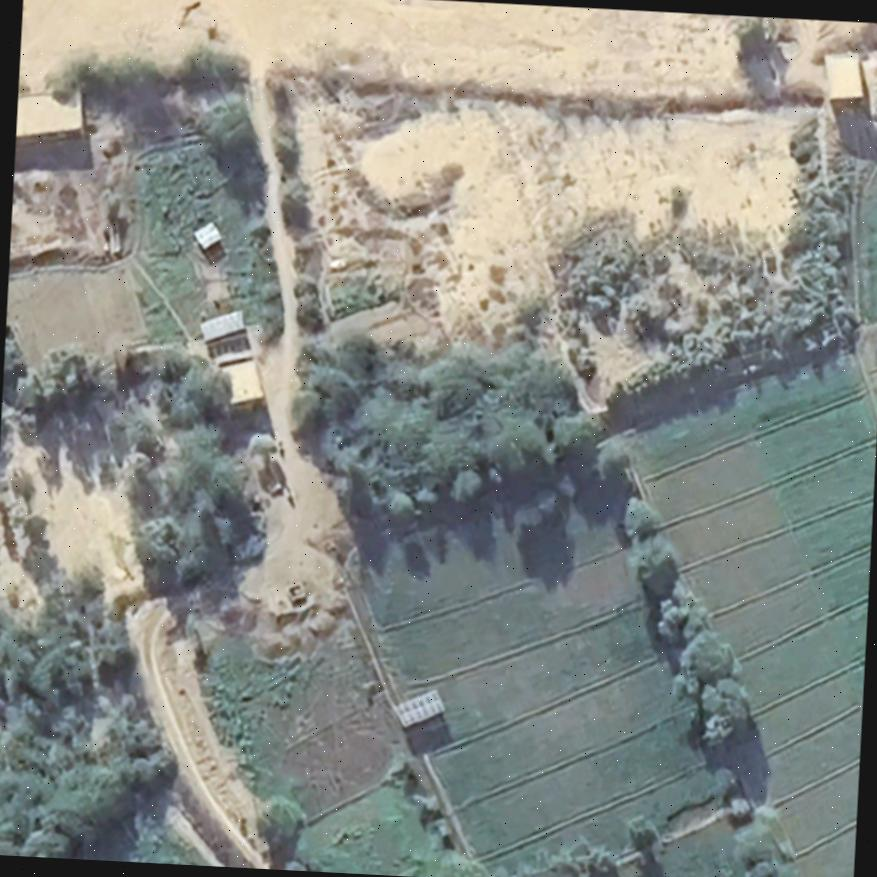Solarpanel: (384, 685, 449, 729), (193, 303, 248, 343), (191, 217, 227, 253)
